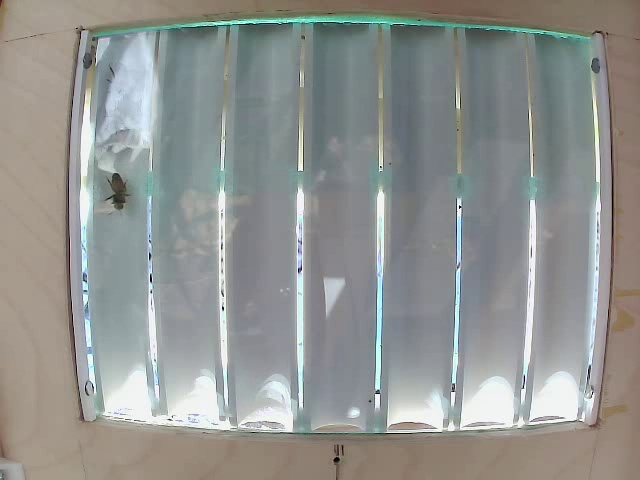bee: (86, 167, 140, 212)
